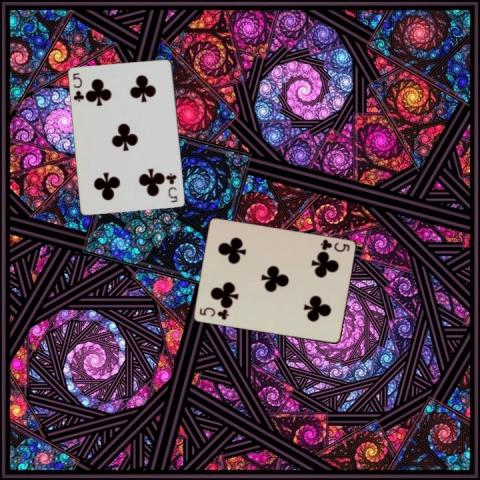5c: (196, 305, 230, 321), (317, 237, 351, 253), (70, 70, 85, 103), (164, 170, 178, 204)
